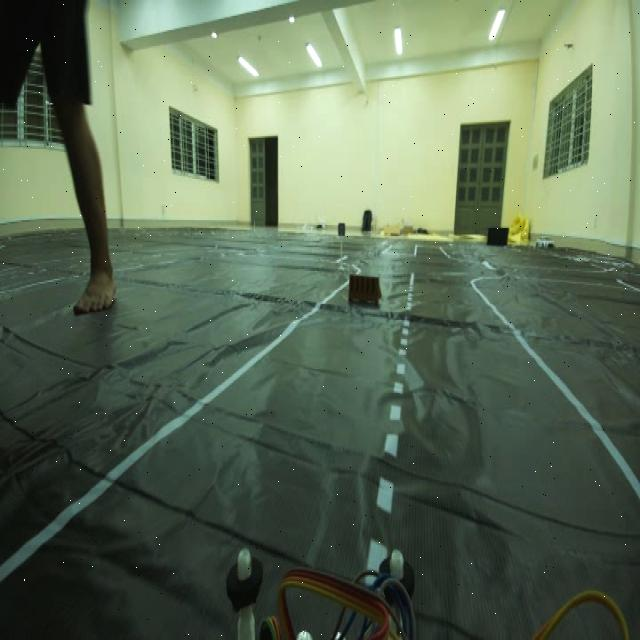roadblock: (345, 268, 385, 314)
